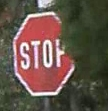stop: (10, 11, 71, 96)
